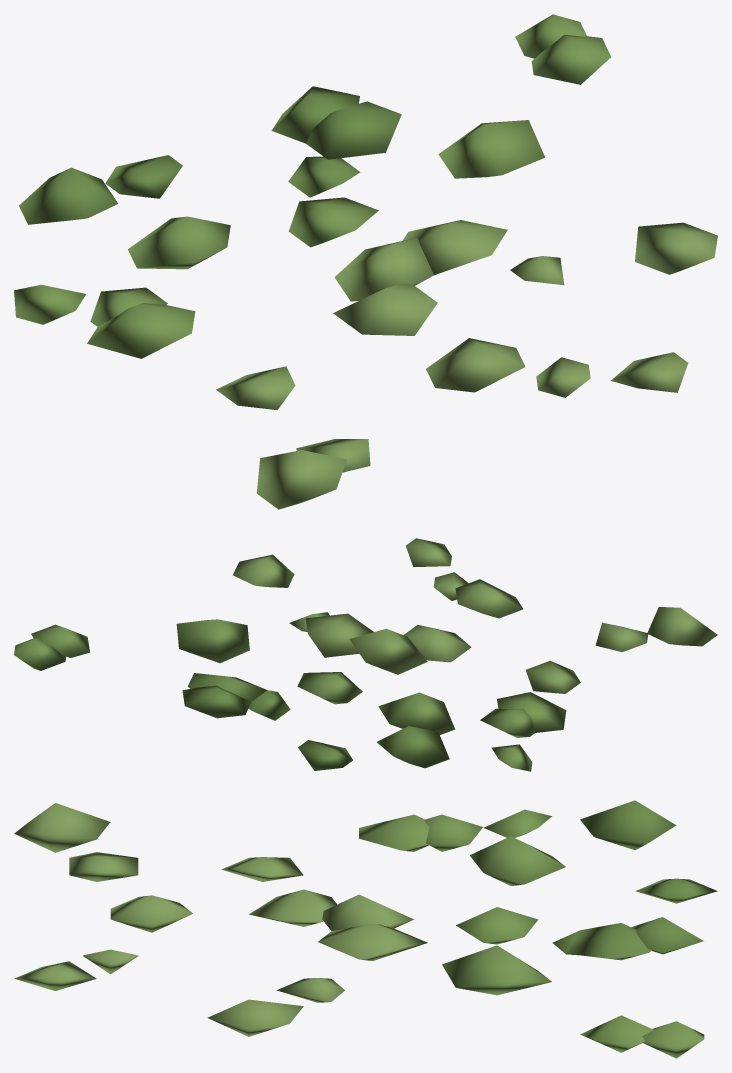
The model's file is canopy-2--1-4.glb.
3 views of the same model, one above another, from view 1: azimuth 30°, elevation 25°; view 2: azimuth 150°, elevation 25°; view 3: azimuth 270°, elevation 25° (orthographic). The views are drawn at different scales.
Size of the model in its own units: 128 by 20 by 128.
1 material, 1 textured.
